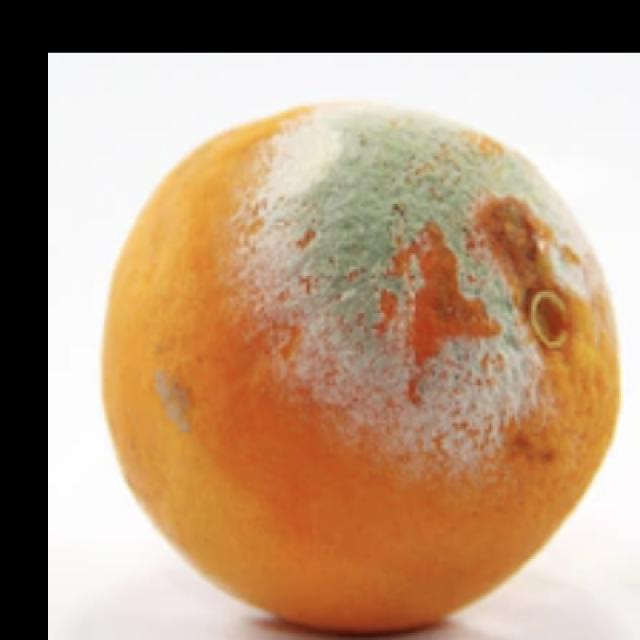sedikit-busuk: (102, 104, 620, 629)
